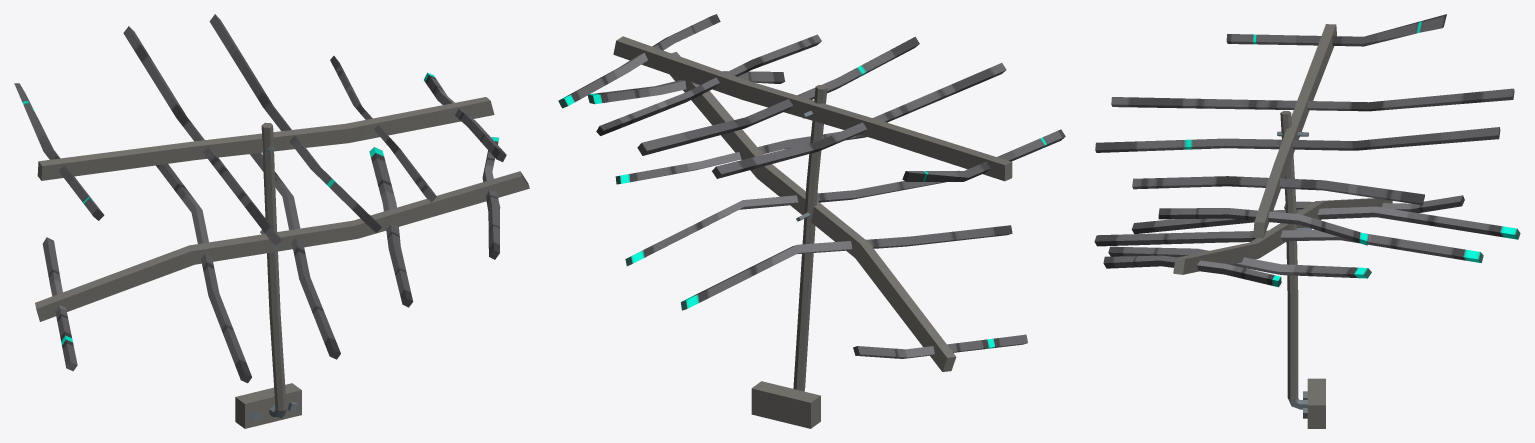
The model's file is SM_Prop_Antenna_06.fbx.
3 renders of one model, left to right at view 1: azimuth 30°, elevation 25°; view 2: azimuth 150°, elevation 25°; view 3: azimuth 270°, elevation 25°, orthographic. The views are drawn at different scales.
Parts seen in each view (by area): view 1: SM_Prop_Antenna_06; view 2: SM_Prop_Antenna_06; view 3: SM_Prop_Antenna_06.
Boxes of the visible parts, box(x1,y1,x2,y2) form: SM_Prop_Antenna_06: box(14, 14, 529, 428); SM_Prop_Antenna_06: box(558, 14, 1065, 428); SM_Prop_Antenna_06: box(1094, 14, 1520, 428).
Bounding box in the file's own units: 195 × 143 × 175.
